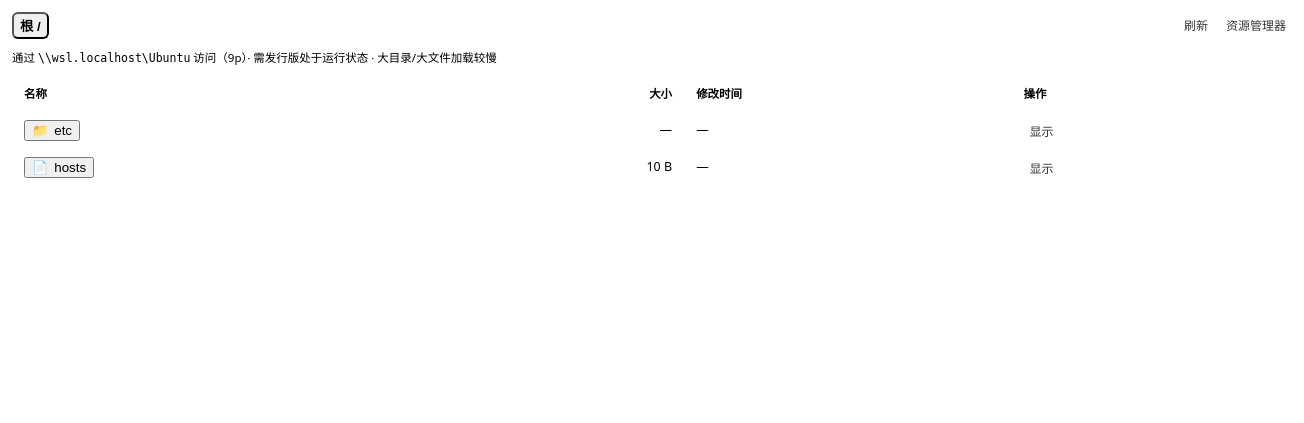
it: 文件浏览器确认语义（自查回归） › 截断文件只读展示前缀（文案与实现一致）且禁止保存
Click the button with class "entry" showing "📄 hosts" at (59, 167), box [24, 157, 94, 178]
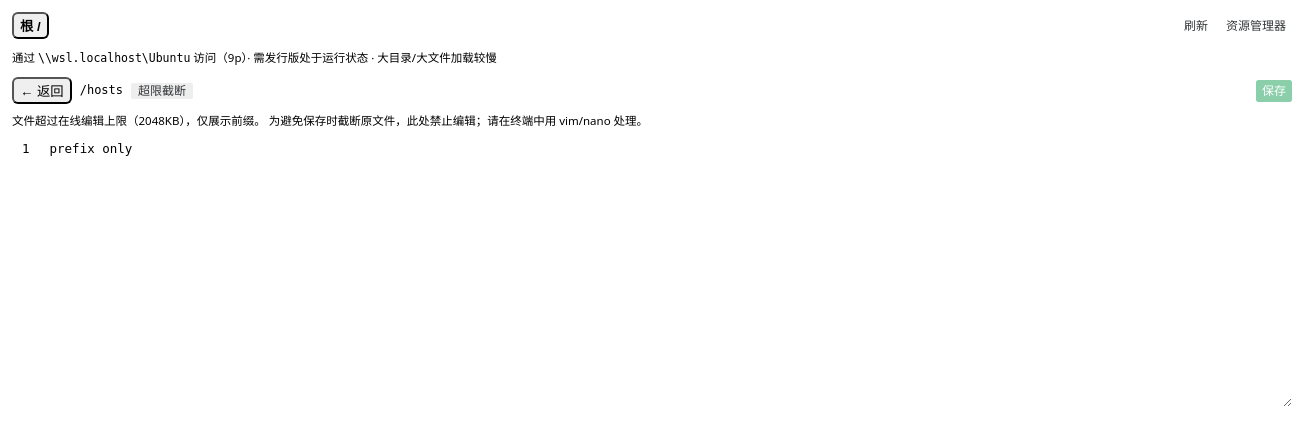
Expected: the text "超限截断" is shown, [138, 85, 186, 97]
Expected: the text "仅展示前缀" is shown, [12, 113, 648, 128]
Expected: the button "保存" is disabled, [1256, 80, 1292, 102]
